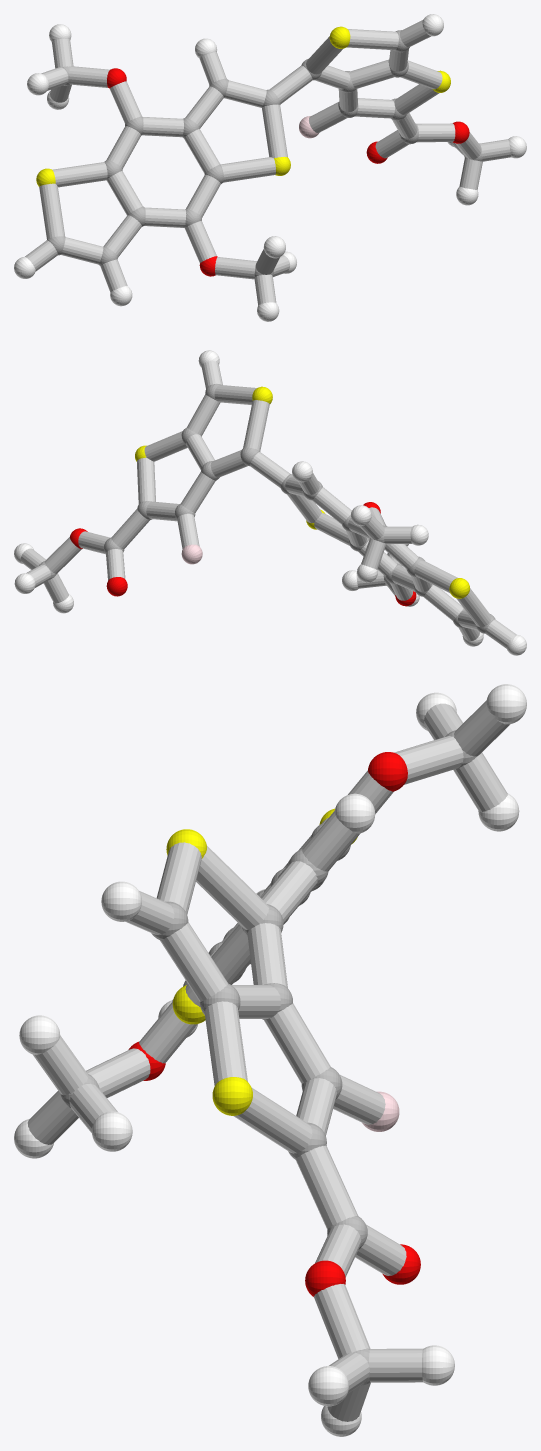
File: color.glb
The picture shows the model from 3 angles, top to bottom: view 1: azimuth 30°, elevation 25°; view 2: azimuth 150°, elevation 25°; view 3: azimuth 270°, elevation 25°; orthographic projection. The views are drawn at different scales.
Visible parts, largest first — view 1: grp15205, grp8689, grp1, grp7241, grp13395; view 2: grp15205, grp8689, grp1, grp7241, grp13395; view 3: grp15205, grp8689, grp1, grp13395, grp7241.
Boxes of the visible parts, <box> form: grp15205: <box>25,20,511,305</box>; grp8689: <box>14,14,526,321</box>; grp1: <box>47,30,482,276</box>; grp7241: <box>36,26,450,186</box>; grp13395: <box>107,68,469,276</box>; grp15205: <box>20,361,516,648</box>; grp8689: <box>14,350,526,655</box>; grp1: <box>38,383,495,633</box>; grp7241: <box>135,386,469,598</box>; grp13395: <box>70,502,416,606</box>; grp15205: <box>27,700,510,1421</box>; grp8689: <box>14,684,526,1436</box>; grp1: <box>60,730,476,1385</box>; grp13395: <box>128,752,420,1296</box>; grp7241: <box>166,808,357,1115</box>.
Size of the model in its own units: 16.29 by 7.59 by 7.54.
